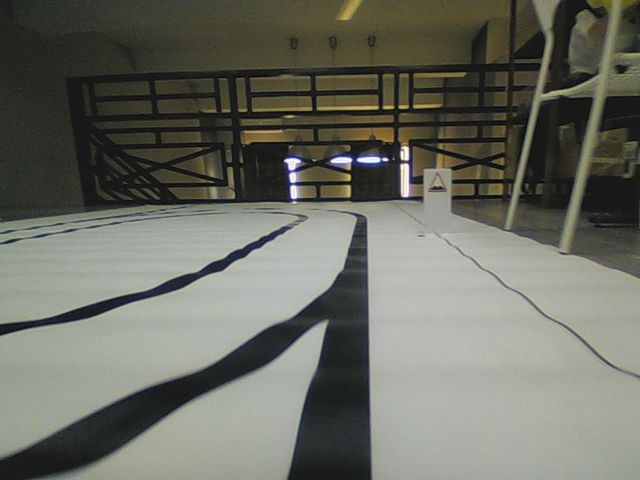Nerov: (427, 171, 447, 193)
